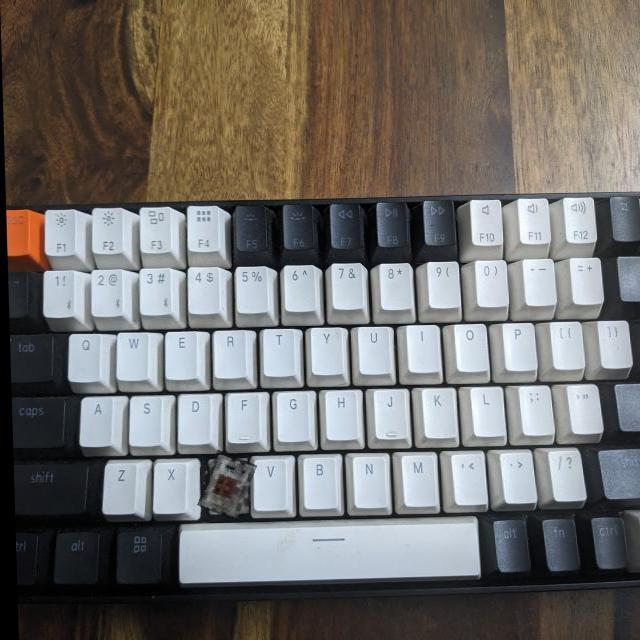key-switch: (198, 453, 252, 519)
